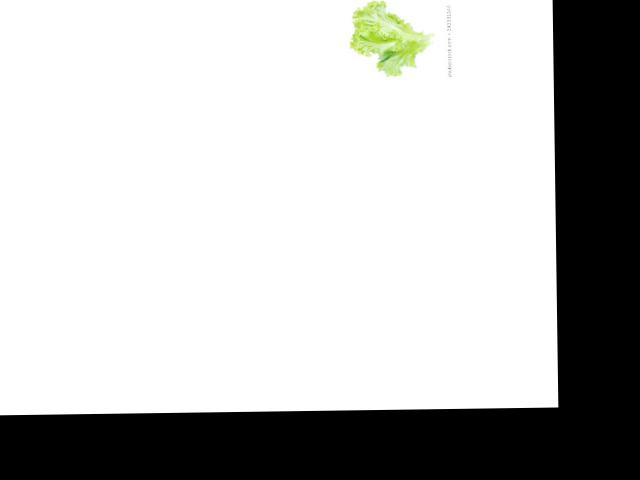lettuce: (347, 0, 440, 79)
